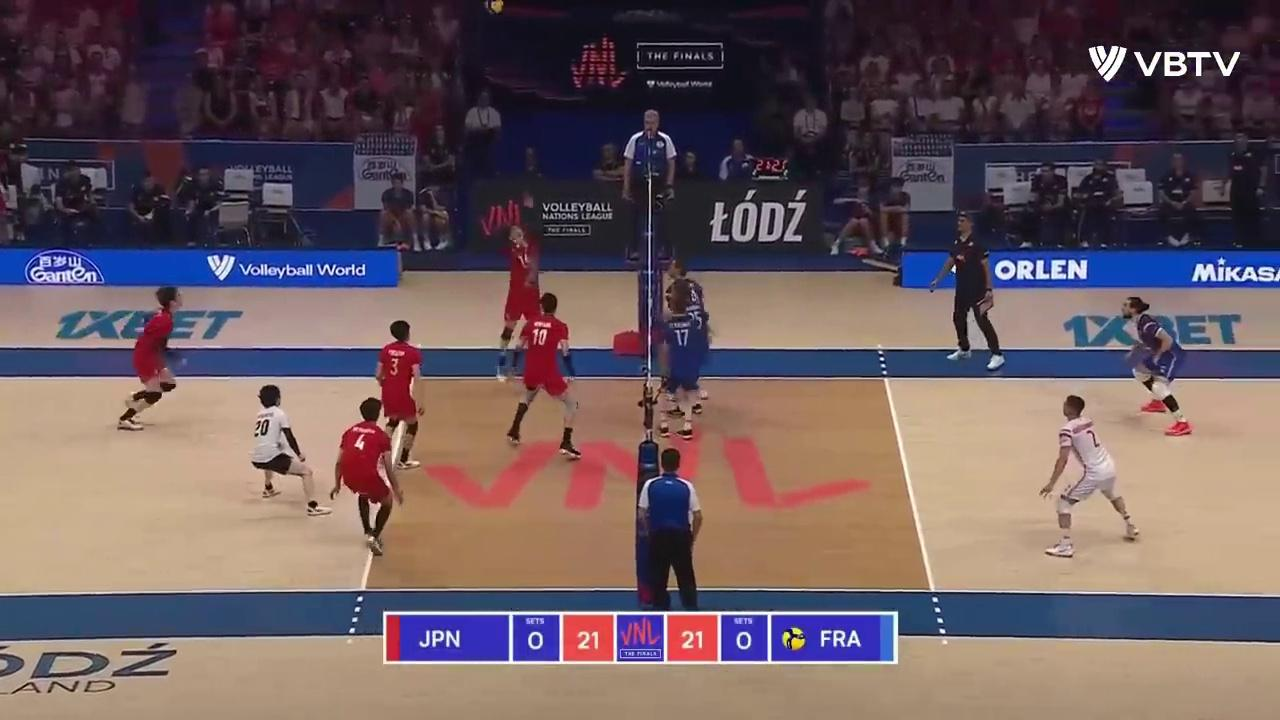ball: (486, 0, 505, 13)
